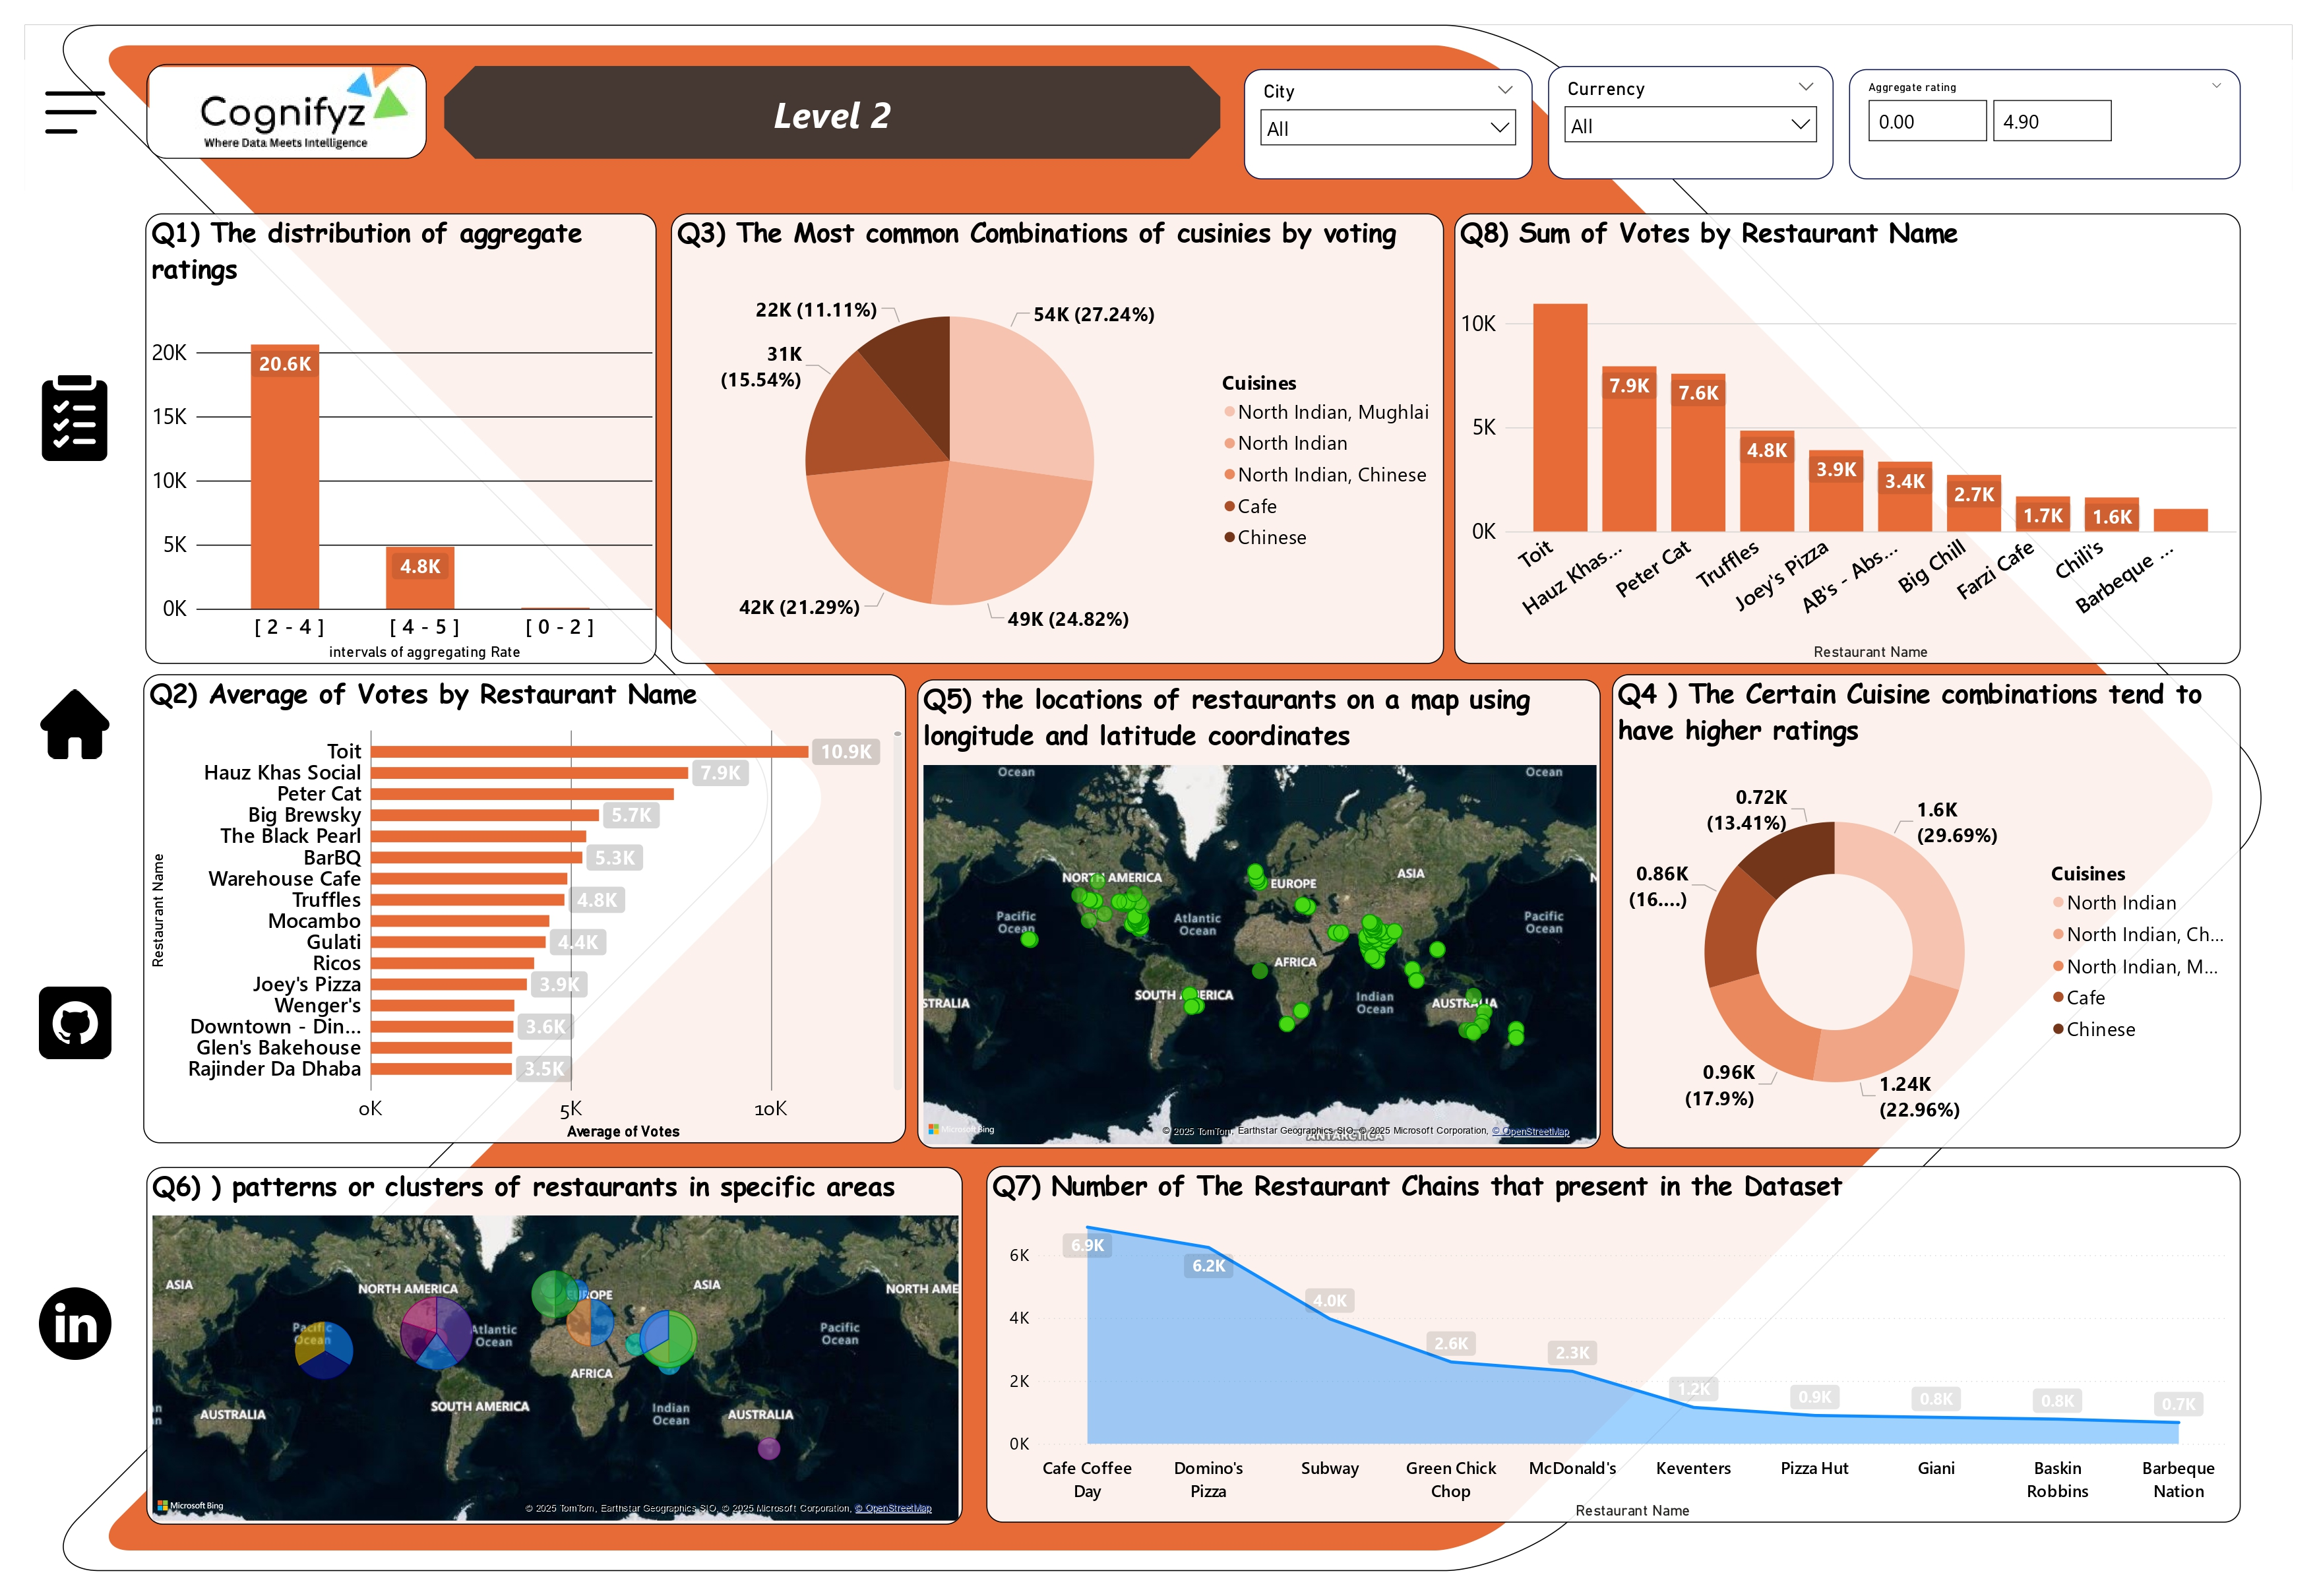

What the dashboard file says about the page in this screenshot:
{"tool":"powerbi","page":{"name":"Level 2","canvas":[2200,1500],"ordinal":3},"visuals":[{"type":"shape","box":[0,0,2200,1500],"z":0},{"type":"image","box":[0,46.7,96.7,76.7],"z":1000},{"type":"image","box":[0,1220,96.7,80],"z":2000},{"type":"image","box":[0,928.3,96.7,80],"z":3000},{"type":"image","box":[0,640,96.7,76.7],"z":4000},{"type":"image","box":[0,335,96.7,93.3],"z":5000},{"type":"shape","box":[60,20,2080,1460],"z":6000},{"type":"shape","box":[406.7,40,753.3,90],"z":9000},{"type":"columnChart","title":"Q1) The distribution of aggregate ratings ","fields":{"Category":["Dataset.intervals of aggregating Rate"],"Y":["Sum(Dataset.Aggregate rating)"]},"box":[116.7,183.3,496.7,436.7],"z":10000},{"type":"barChart","title":"Q2) Average of Votes by Restaurant Name","fields":{"Category":["Dataset.Restaurant Name"],"Y":["Avg(Dataset.Votes)"]},"box":[115,630,740,455],"z":11000},{"type":"pieChart","title":"Q3) The Most common Combinations of cusinies by voting","fields":{"Category":["Dataset.Cuisines"],"Y":["Sum(Dataset.Votes)"]},"box":[626.7,183.3,750,436.7],"z":12000},{"type":"donutChart","title":"Q4 ) The Certain Cuisine combinations tend to have higher ratings ","fields":{"Category":["Dataset.Cuisines"],"Y":["Sum(Dataset.Aggregate rating)"]},"box":[1540,630,610,460],"z":13000},{"type":"map","title":"Q5) the locations of restaurants on a map using longitude and latitude coordinates","fields":{"Y":["Dataset.Latitude"],"X":["Dataset.Longitude"]},"box":[866.2,635,662.5,455],"z":14000},{"type":"map","title":"Q6) )  patterns or clusters of restaurants in specific areas","fields":{"Category":["Dataset.Locality","Dataset.Locality Verbose"],"Series":["Dataset.Cuisines"],"Size":["CountNonNull(Dataset.Cuisines)"]},"box":[117.5,1107.5,792.5,347.5],"z":15000},{"type":"areaChart","title":"Q7) Number of The Restaurant Chains that present in the Dataset","fields":{"Category":["Dataset.Restaurant Name"],"Y":["Sum(Dataset.Chain Name Occurances)"]},"box":[933.3,1106.7,1216.7,346.7],"z":16000},{"type":"columnChart","title":"Q8) Sum of Votes by Restaurant Name","fields":{"Category":["Dataset.Restaurant Name"],"Y":["Avg(Dataset.Votes)"]},"box":[1386.7,183.3,763.3,436.7],"z":17000},{"type":"slicer","fields":{"Values":["Dataset.Currency"]},"box":[1478.3,40,276.7,110],"z":18000},{"type":"slicer","fields":{"Values":["Dataset.City"]},"box":[1183.3,43.3,280,106.7],"z":19000},{"type":"slicer","fields":{"Values":["Dataset.Aggregate rating"]},"box":[1770,43.3,380,106.7],"z":20000}]}

Visuals, with their boxes on the page's 2200x1500 design canvas (x1, y1, x2, y2). These are canvas units, not pixel positions in the 2317x1596 screenshot, which may show the page scaled, cropped or inside an application window:
shape: bbox=[0, 0, 2200, 1500]
image: bbox=[0, 47, 97, 123]
image: bbox=[0, 1220, 97, 1300]
image: bbox=[0, 928, 97, 1008]
image: bbox=[0, 640, 97, 717]
image: bbox=[0, 335, 97, 428]
shape: bbox=[60, 20, 2140, 1480]
shape: bbox=[407, 40, 1160, 130]
"Q1) The distribution of aggregate ratings " columnChart: bbox=[117, 183, 613, 620]
"Q2) Average of Votes by Restaurant Name" barChart: bbox=[115, 630, 855, 1085]
"Q3) The Most common Combinations of cusinies by voting" pieChart: bbox=[627, 183, 1377, 620]
"Q4 ) The Certain Cuisine combinations tend to have higher ratings " donutChart: bbox=[1540, 630, 2150, 1090]
"Q5) the locations of restaurants on a map using longitude and latitude coordinates" map: bbox=[866, 635, 1529, 1090]
"Q6) )  patterns or clusters of restaurants in specific areas" map: bbox=[118, 1108, 910, 1455]
"Q7) Number of The Restaurant Chains that present in the Dataset" areaChart: bbox=[933, 1107, 2150, 1453]
"Q8) Sum of Votes by Restaurant Name" columnChart: bbox=[1387, 183, 2150, 620]
slicer - Dataset.Currency: bbox=[1478, 40, 1755, 150]
slicer - Dataset.City: bbox=[1183, 43, 1463, 150]
slicer - Dataset.Aggregate rating: bbox=[1770, 43, 2150, 150]
